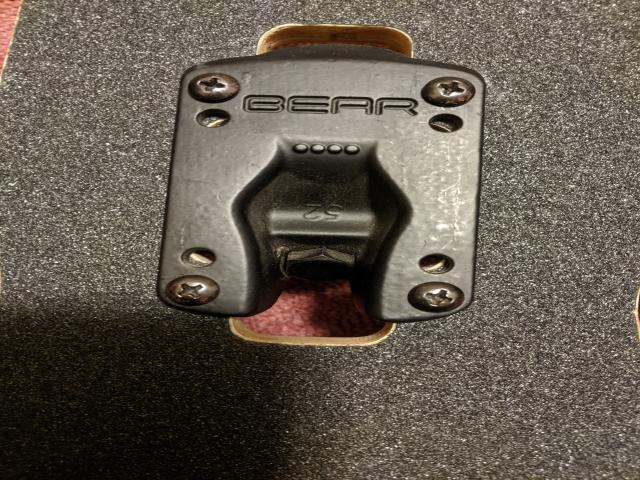CRS: (160, 274, 220, 307), (409, 282, 465, 314), (185, 73, 239, 103), (422, 76, 476, 104)
